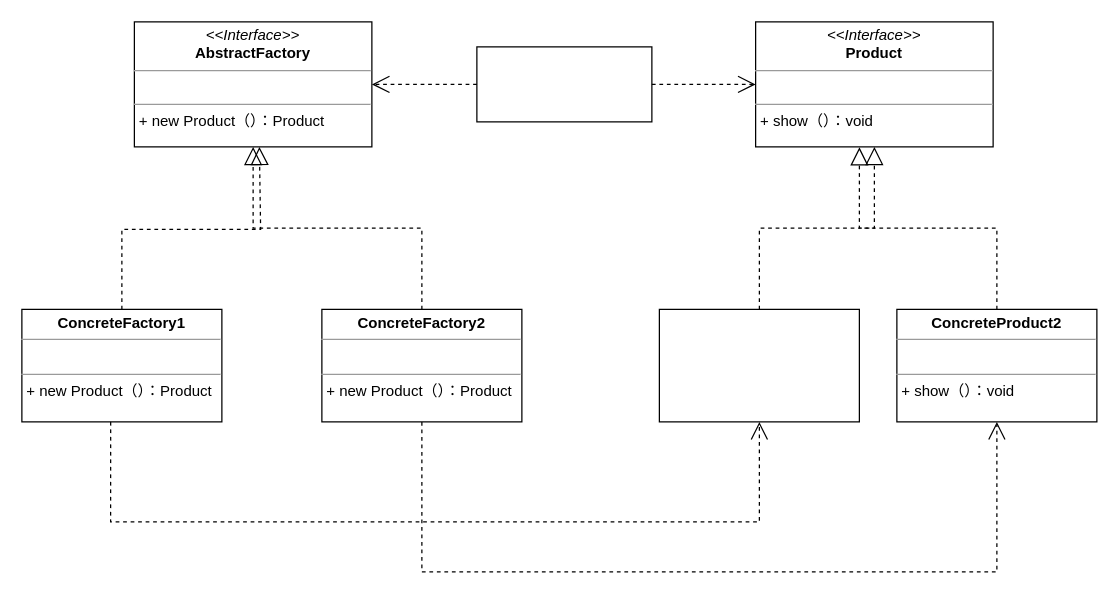
Image size: 1119x611. Some labels were removed from this diagram. Each missing label, with the centre of its shape:
"Client" goes at [564,84].
"ConcreteProduct1 + show（）：void" goes at [758,365].
